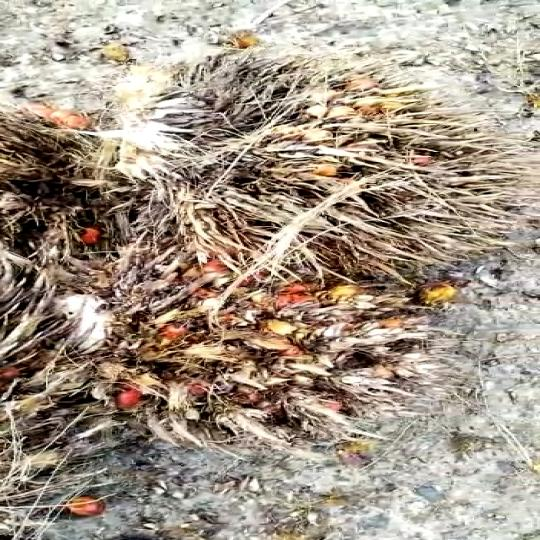terlalu masak: (54, 34, 527, 449)
